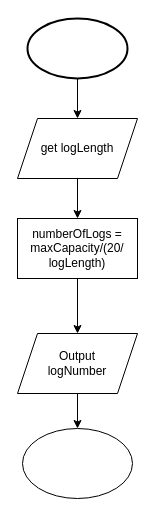
The diagram is 155 pixels wide and 516 high, and some of its shapes have lost their labels. The shapes that lost their labels are listed below. From the top down, each one's centre as x and y in pixels, then its label:
point 77,48: Start
point 77,463: Stop
